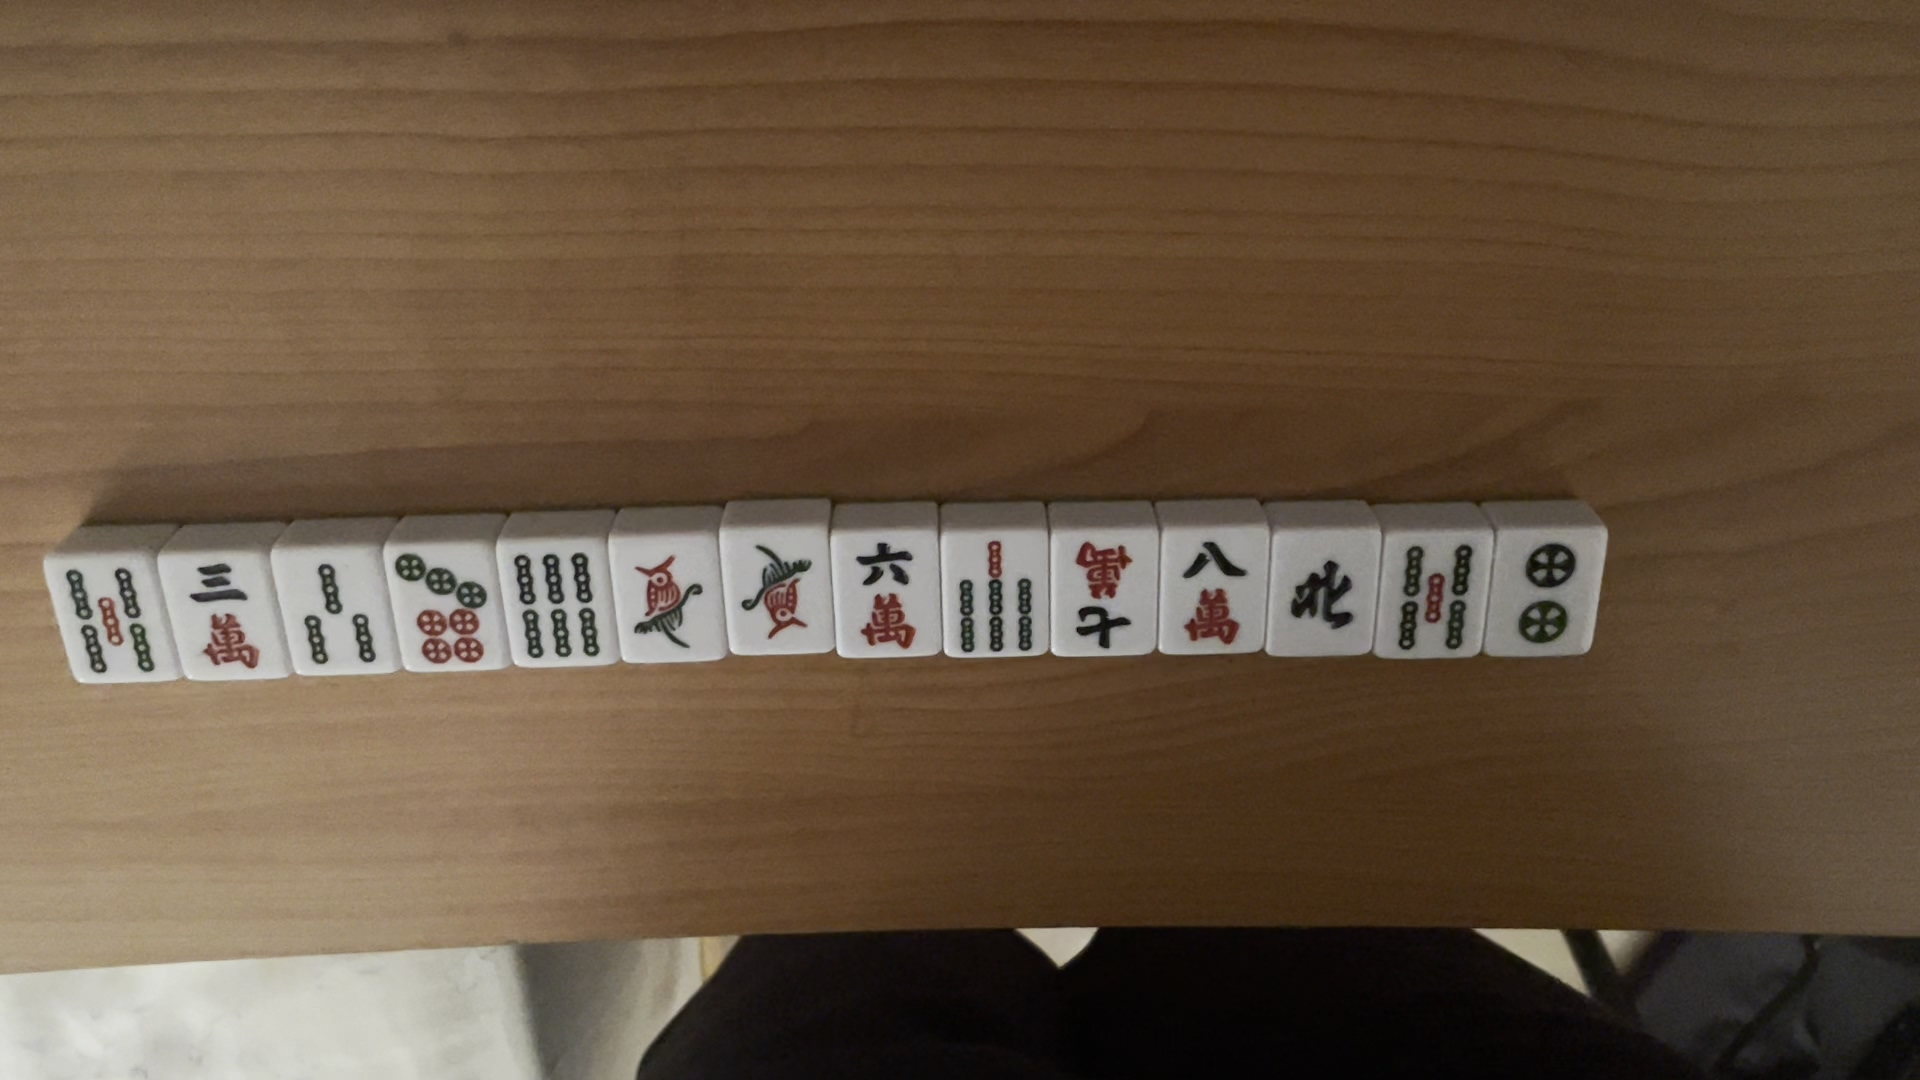b-1: (625, 546, 705, 654), (735, 539, 815, 647)
b-3: (294, 556, 381, 670)
b-5: (61, 556, 157, 676), (1385, 534, 1481, 653)
b-6: (506, 549, 611, 666)
b-7: (957, 535, 1042, 653)
c-3: (177, 556, 265, 676)
c-6: (833, 535, 932, 653)
c-7: (1065, 531, 1142, 646)
c-8: (1168, 535, 1251, 647)
d-2: (1513, 535, 1580, 644)
d-7: (392, 550, 493, 669)
honors-north: (1284, 559, 1364, 633)
